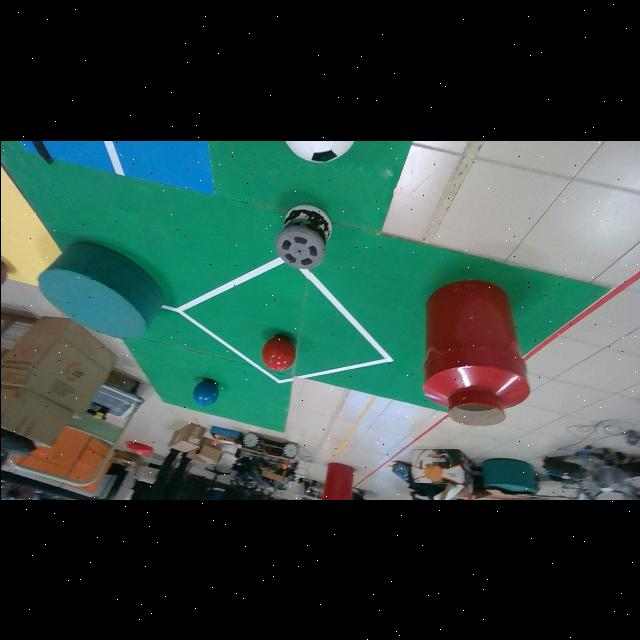B: (192, 379, 218, 406)
R: (261, 336, 295, 372)
